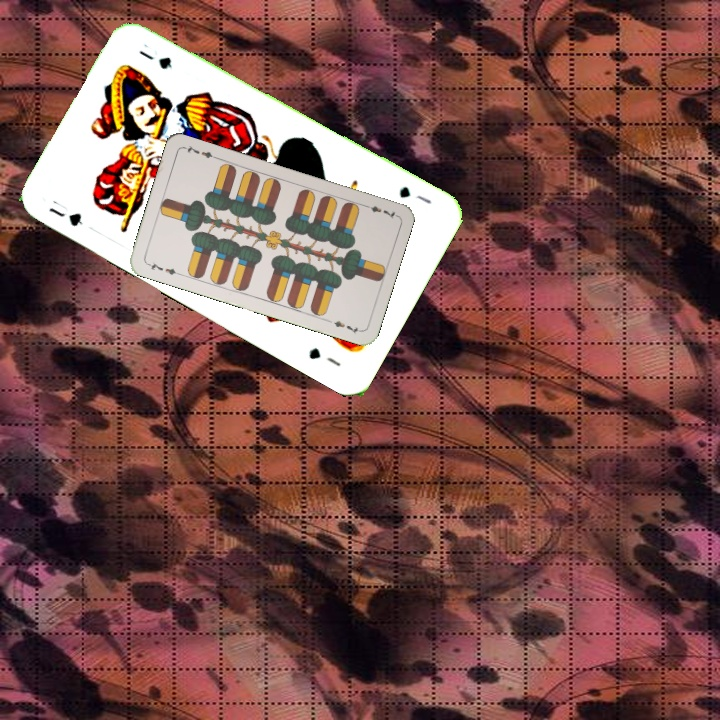E7: (359, 200, 399, 221), (143, 258, 183, 278)
GU: (44, 195, 86, 229), (395, 182, 434, 207)
